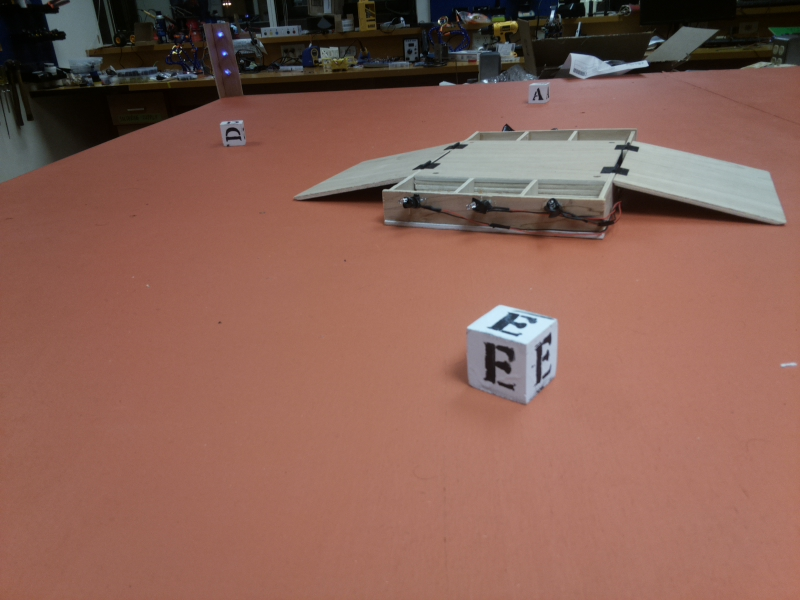blockA: (522, 79, 557, 106)
blockD: (220, 119, 246, 145)
blockE: (462, 303, 557, 408)
corner: (201, 21, 243, 97)
side: (376, 190, 611, 242), (470, 122, 637, 134)
slope: (614, 137, 787, 243), (292, 143, 454, 201)
